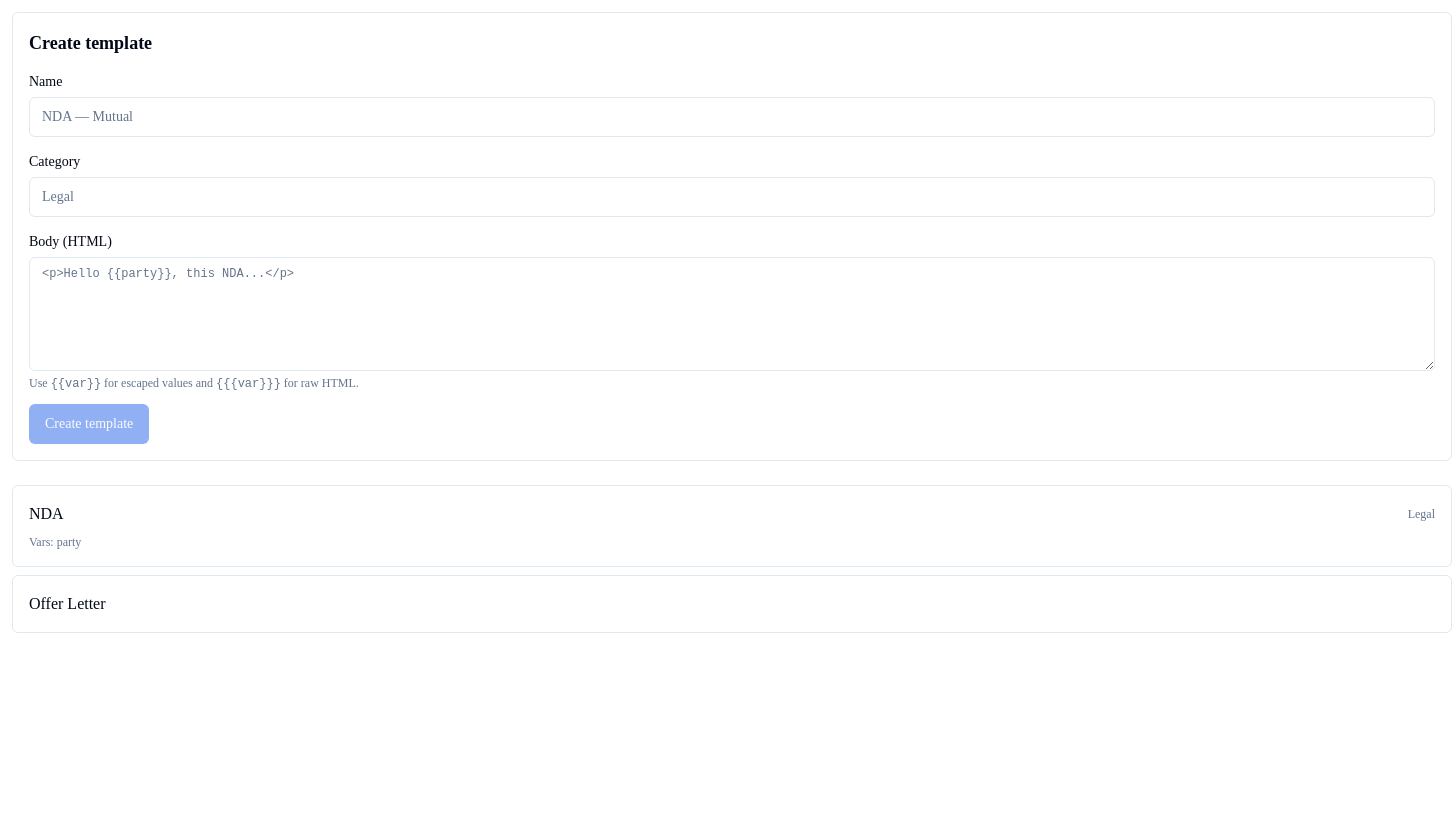
Test: DocumentTemplatesList › shows error on create failure
Check: the number of list items with test id "template-card" is 2, box [12, 485, 1451, 567]; [12, 575, 1451, 633]
In the field with test id "templates-create-name": (732, 117) [29, 97, 1435, 137], type "Test"
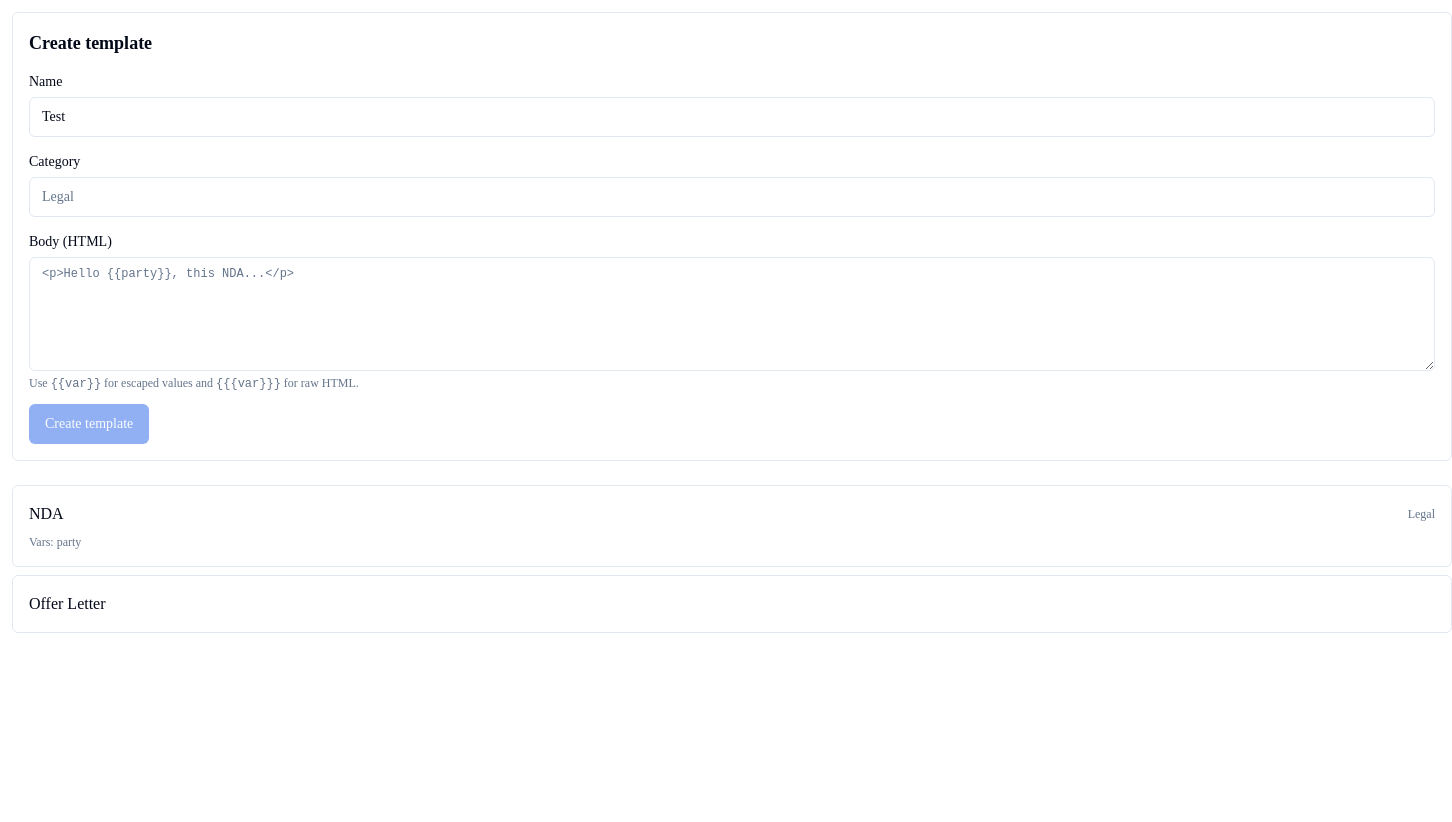
In the text box with test id "templates-create-body": (732, 314) [29, 257, 1435, 371], type "<p>x</p>"
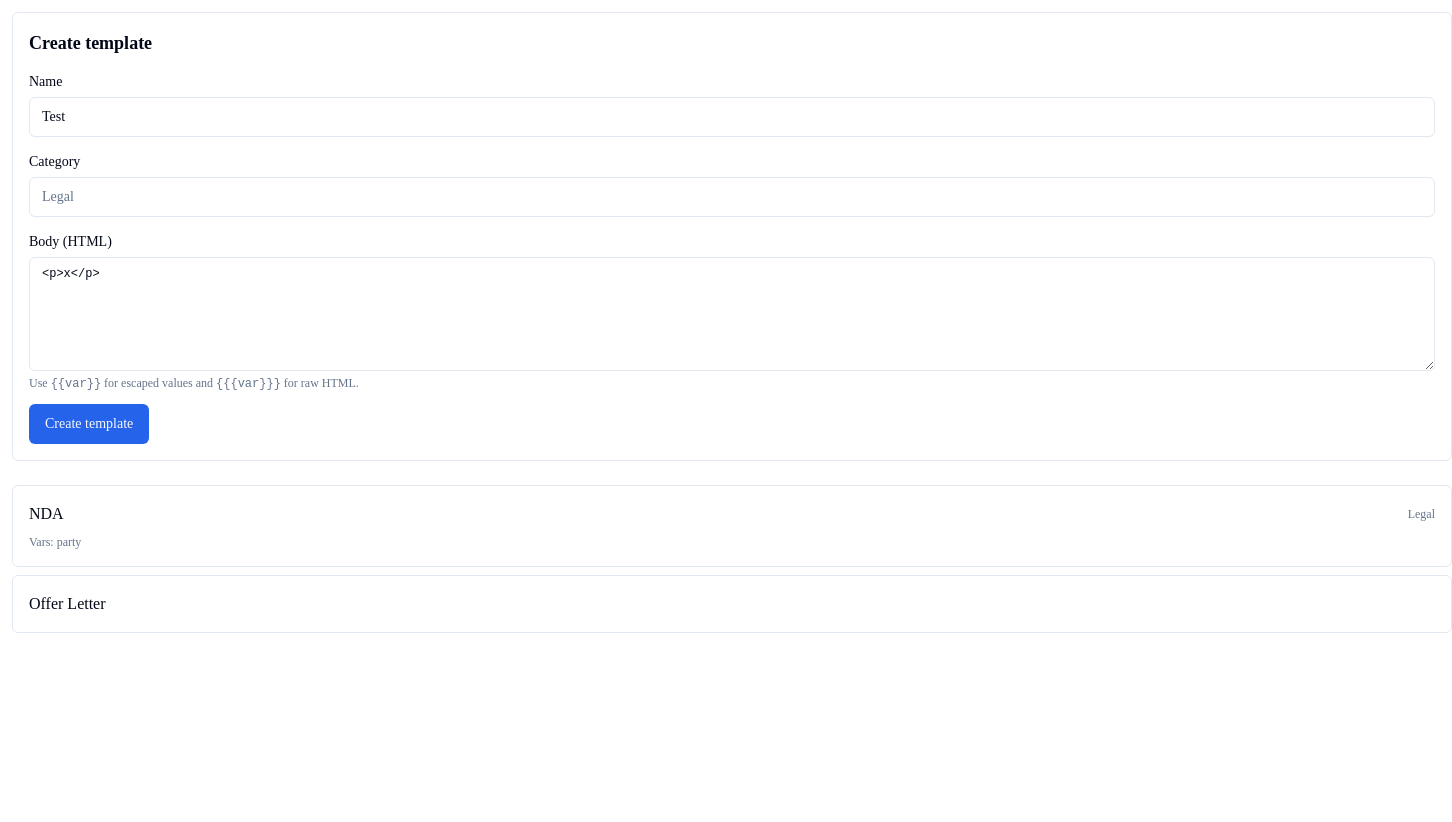
Click the button with test id "templates-create-submit": (89, 424) [29, 404, 149, 444]
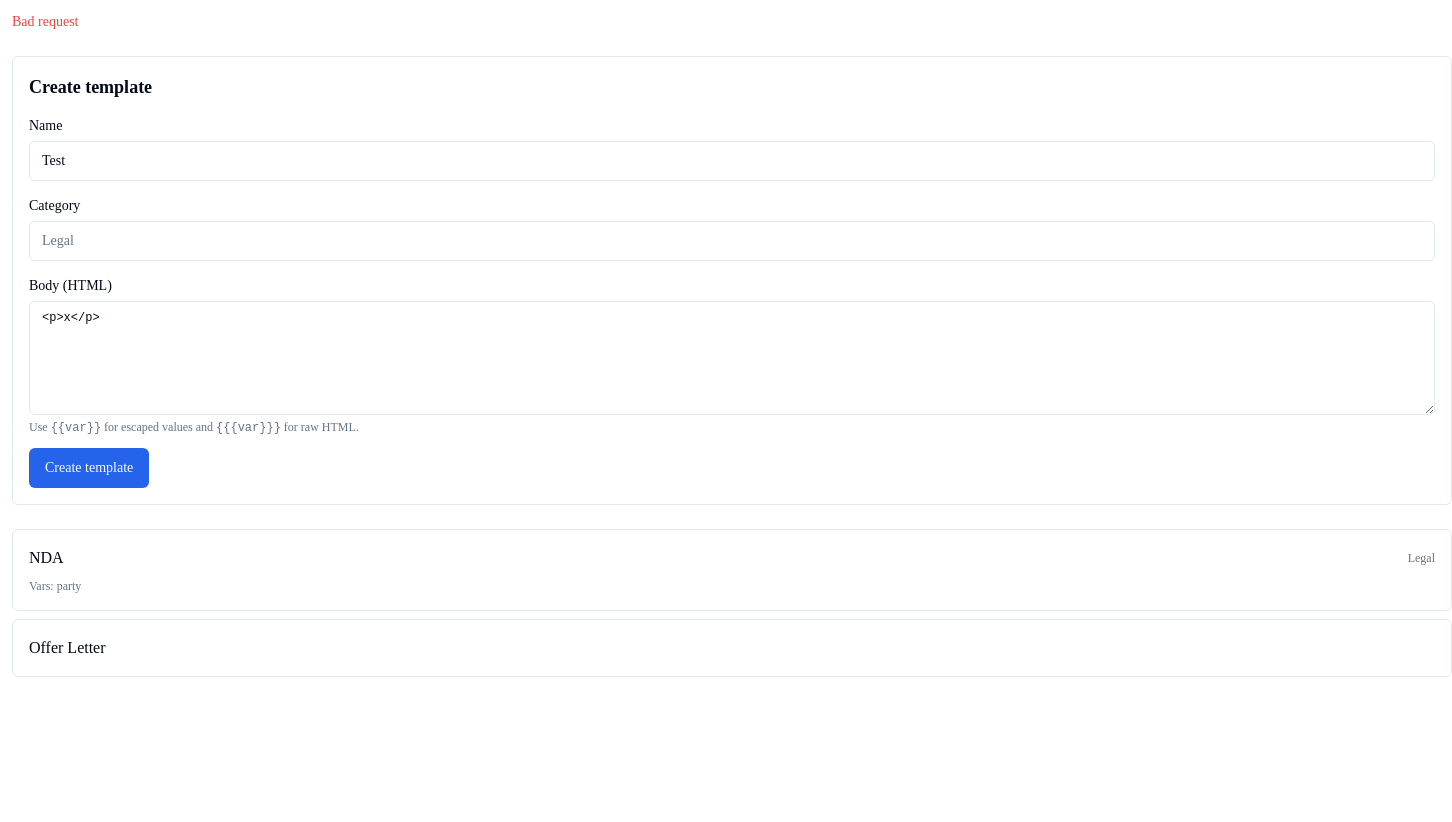
Check: the text with test id "templates-error" reads "Bad request", box [12, 14, 78, 29]
